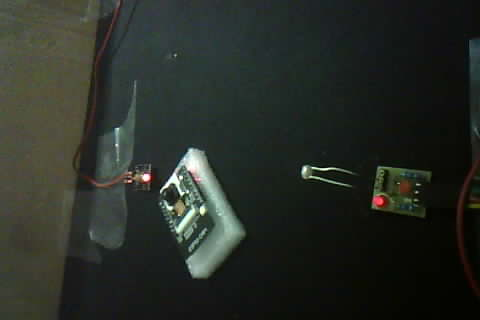esp32: (154, 159, 221, 264)
